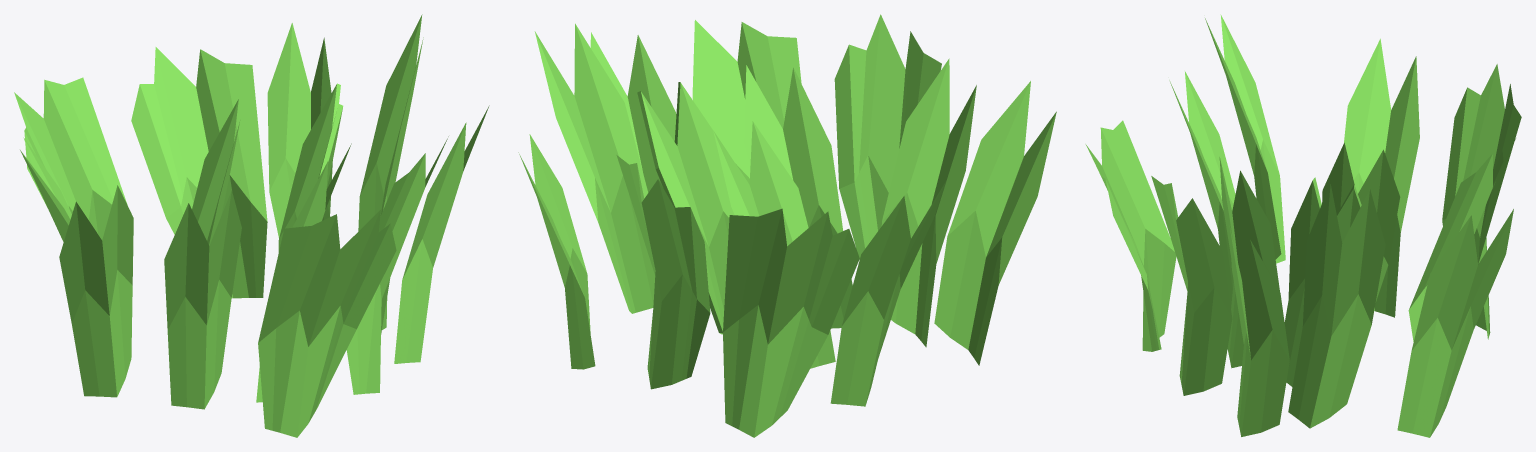
Rendered from Grass1.fbx.
3 views of the same model, side by side, from view 1: azimuth 30°, elevation 25°; view 2: azimuth 150°, elevation 25°; view 3: azimuth 270°, elevation 25° (orthographic). The views are drawn at different scales.
Visible parts, largest first — view 1: Plane.011, Plane.009, Plane.002, Plane.001, Plane.010, Plane.013, Plane.012, Plane.008, Plane.007, Plane.004, Plane.005, Plane.006 (+1 smaller); view 2: Plane.010, Plane.001, Plane.007, Plane.011, Plane.002, Plane.009, Plane.004, Plane.006, Plane.008, Plane.003, Plane.013, Plane.005 (+1 smaller); view 3: Plane.007, Plane.013, Plane.006, Plane.008, Plane.011, Plane.012, Plane.010, Plane.001, Plane.003, Plane.004, Plane.002, Plane.009 (+1 smaller).
Boxes of the visible parts, x1,y1,x2,y2 form: Plane.011: [258, 210, 396, 437]; Plane.009: [131, 47, 267, 298]; Plane.002: [164, 190, 241, 409]; Plane.001: [59, 185, 133, 397]; Plane.010: [14, 77, 127, 240]; Plane.013: [267, 23, 332, 237]; Plane.012: [394, 105, 489, 363]; Plane.008: [346, 136, 448, 394]; Plane.007: [358, 14, 423, 329]; Plane.004: [278, 83, 343, 252]; Plane.005: [192, 99, 240, 245]; Plane.006: [20, 137, 71, 241]; Plane.010: [723, 208, 859, 437]; Plane.001: [934, 81, 1056, 365]; Plane.007: [534, 23, 655, 313]; Plane.011: [834, 14, 941, 259]; Plane.002: [881, 58, 976, 347]; Plane.009: [616, 155, 710, 389]; Plane.004: [637, 82, 734, 334]; Plane.006: [830, 181, 945, 406]; Plane.008: [692, 20, 801, 184]; Plane.003: [744, 65, 852, 328]; Plane.013: [518, 134, 595, 369]; Plane.005: [713, 121, 835, 368]; Plane.007: [1288, 183, 1385, 428]; Plane.013: [1397, 209, 1513, 437]; Plane.006: [1344, 38, 1419, 317]; Plane.008: [1151, 176, 1232, 395]; Plane.011: [1085, 120, 1176, 351]; Plane.012: [1229, 225, 1289, 436]; Plane.010: [1442, 64, 1521, 339]; Plane.001: [1205, 14, 1285, 263]; Plane.003: [1219, 157, 1279, 368]; Plane.004: [1284, 177, 1361, 386]; Plane.002: [1169, 71, 1235, 307]; Plane.009: [1408, 139, 1515, 341].
Size of the model in its own units: 567 by 359 by 506.
